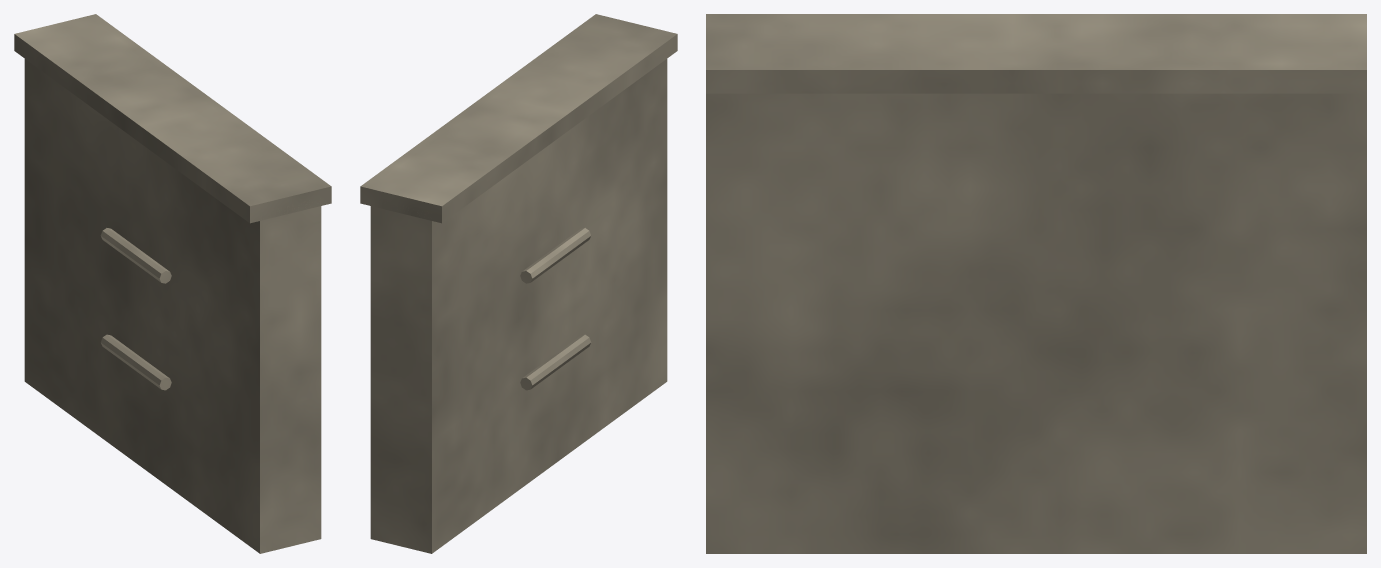
Rendered from obstacle_wall.glb.
The picture shows the model from 3 angles, left to right: view 1: azimuth 30°, elevation 25°; view 2: azimuth 150°, elevation 25°; view 3: azimuth 270°, elevation 25°; orthographic projection. The views are drawn at different scales.
Parts seen in each view (by area): view 1: obstacle_wall; view 2: obstacle_wall; view 3: obstacle_wall.
Boxes of the visible parts, box(x1,y1,x2,y2) form: obstacle_wall: box(14, 14, 331, 553); obstacle_wall: box(360, 14, 677, 553); obstacle_wall: box(706, 14, 1366, 553).
Size of the model in its own units: 0.4101 by 1.64 by 2.
Materials: 1 (1 with a texture image).
